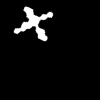single_crochet: (14, 7, 52, 40)
